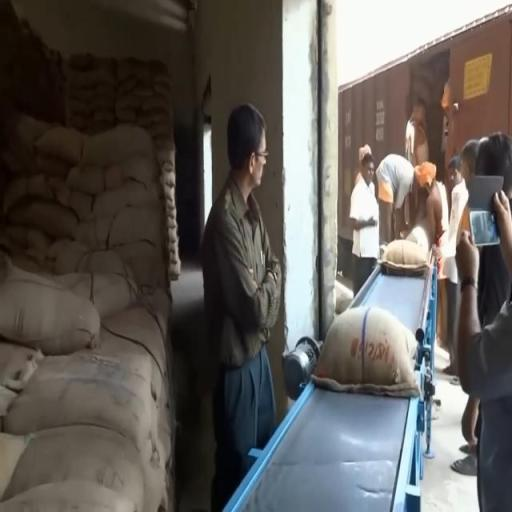c-belt-sack-count: (313, 306, 419, 396), (382, 239, 428, 274)
